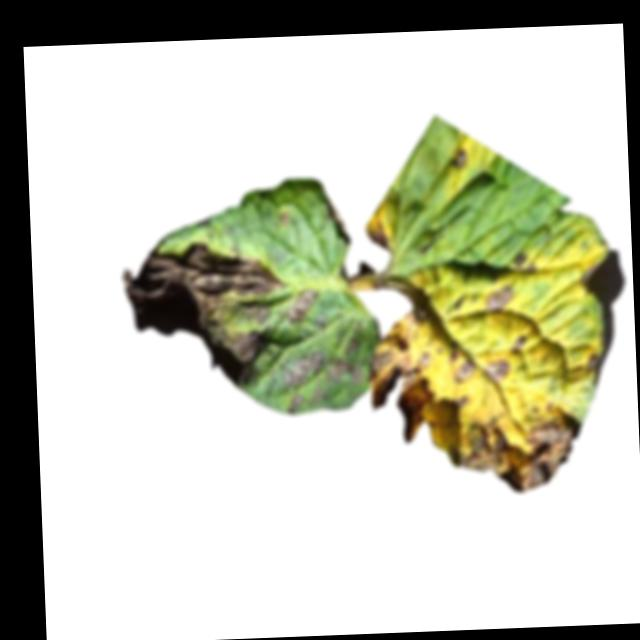Early_blight: (121, 238, 288, 391), (445, 408, 584, 494), (367, 323, 433, 447), (277, 335, 367, 414), (371, 270, 438, 327), (277, 286, 322, 327), (484, 282, 518, 314), (485, 355, 512, 383), (585, 349, 608, 374), (453, 353, 473, 381), (447, 149, 470, 171), (509, 331, 528, 352)
